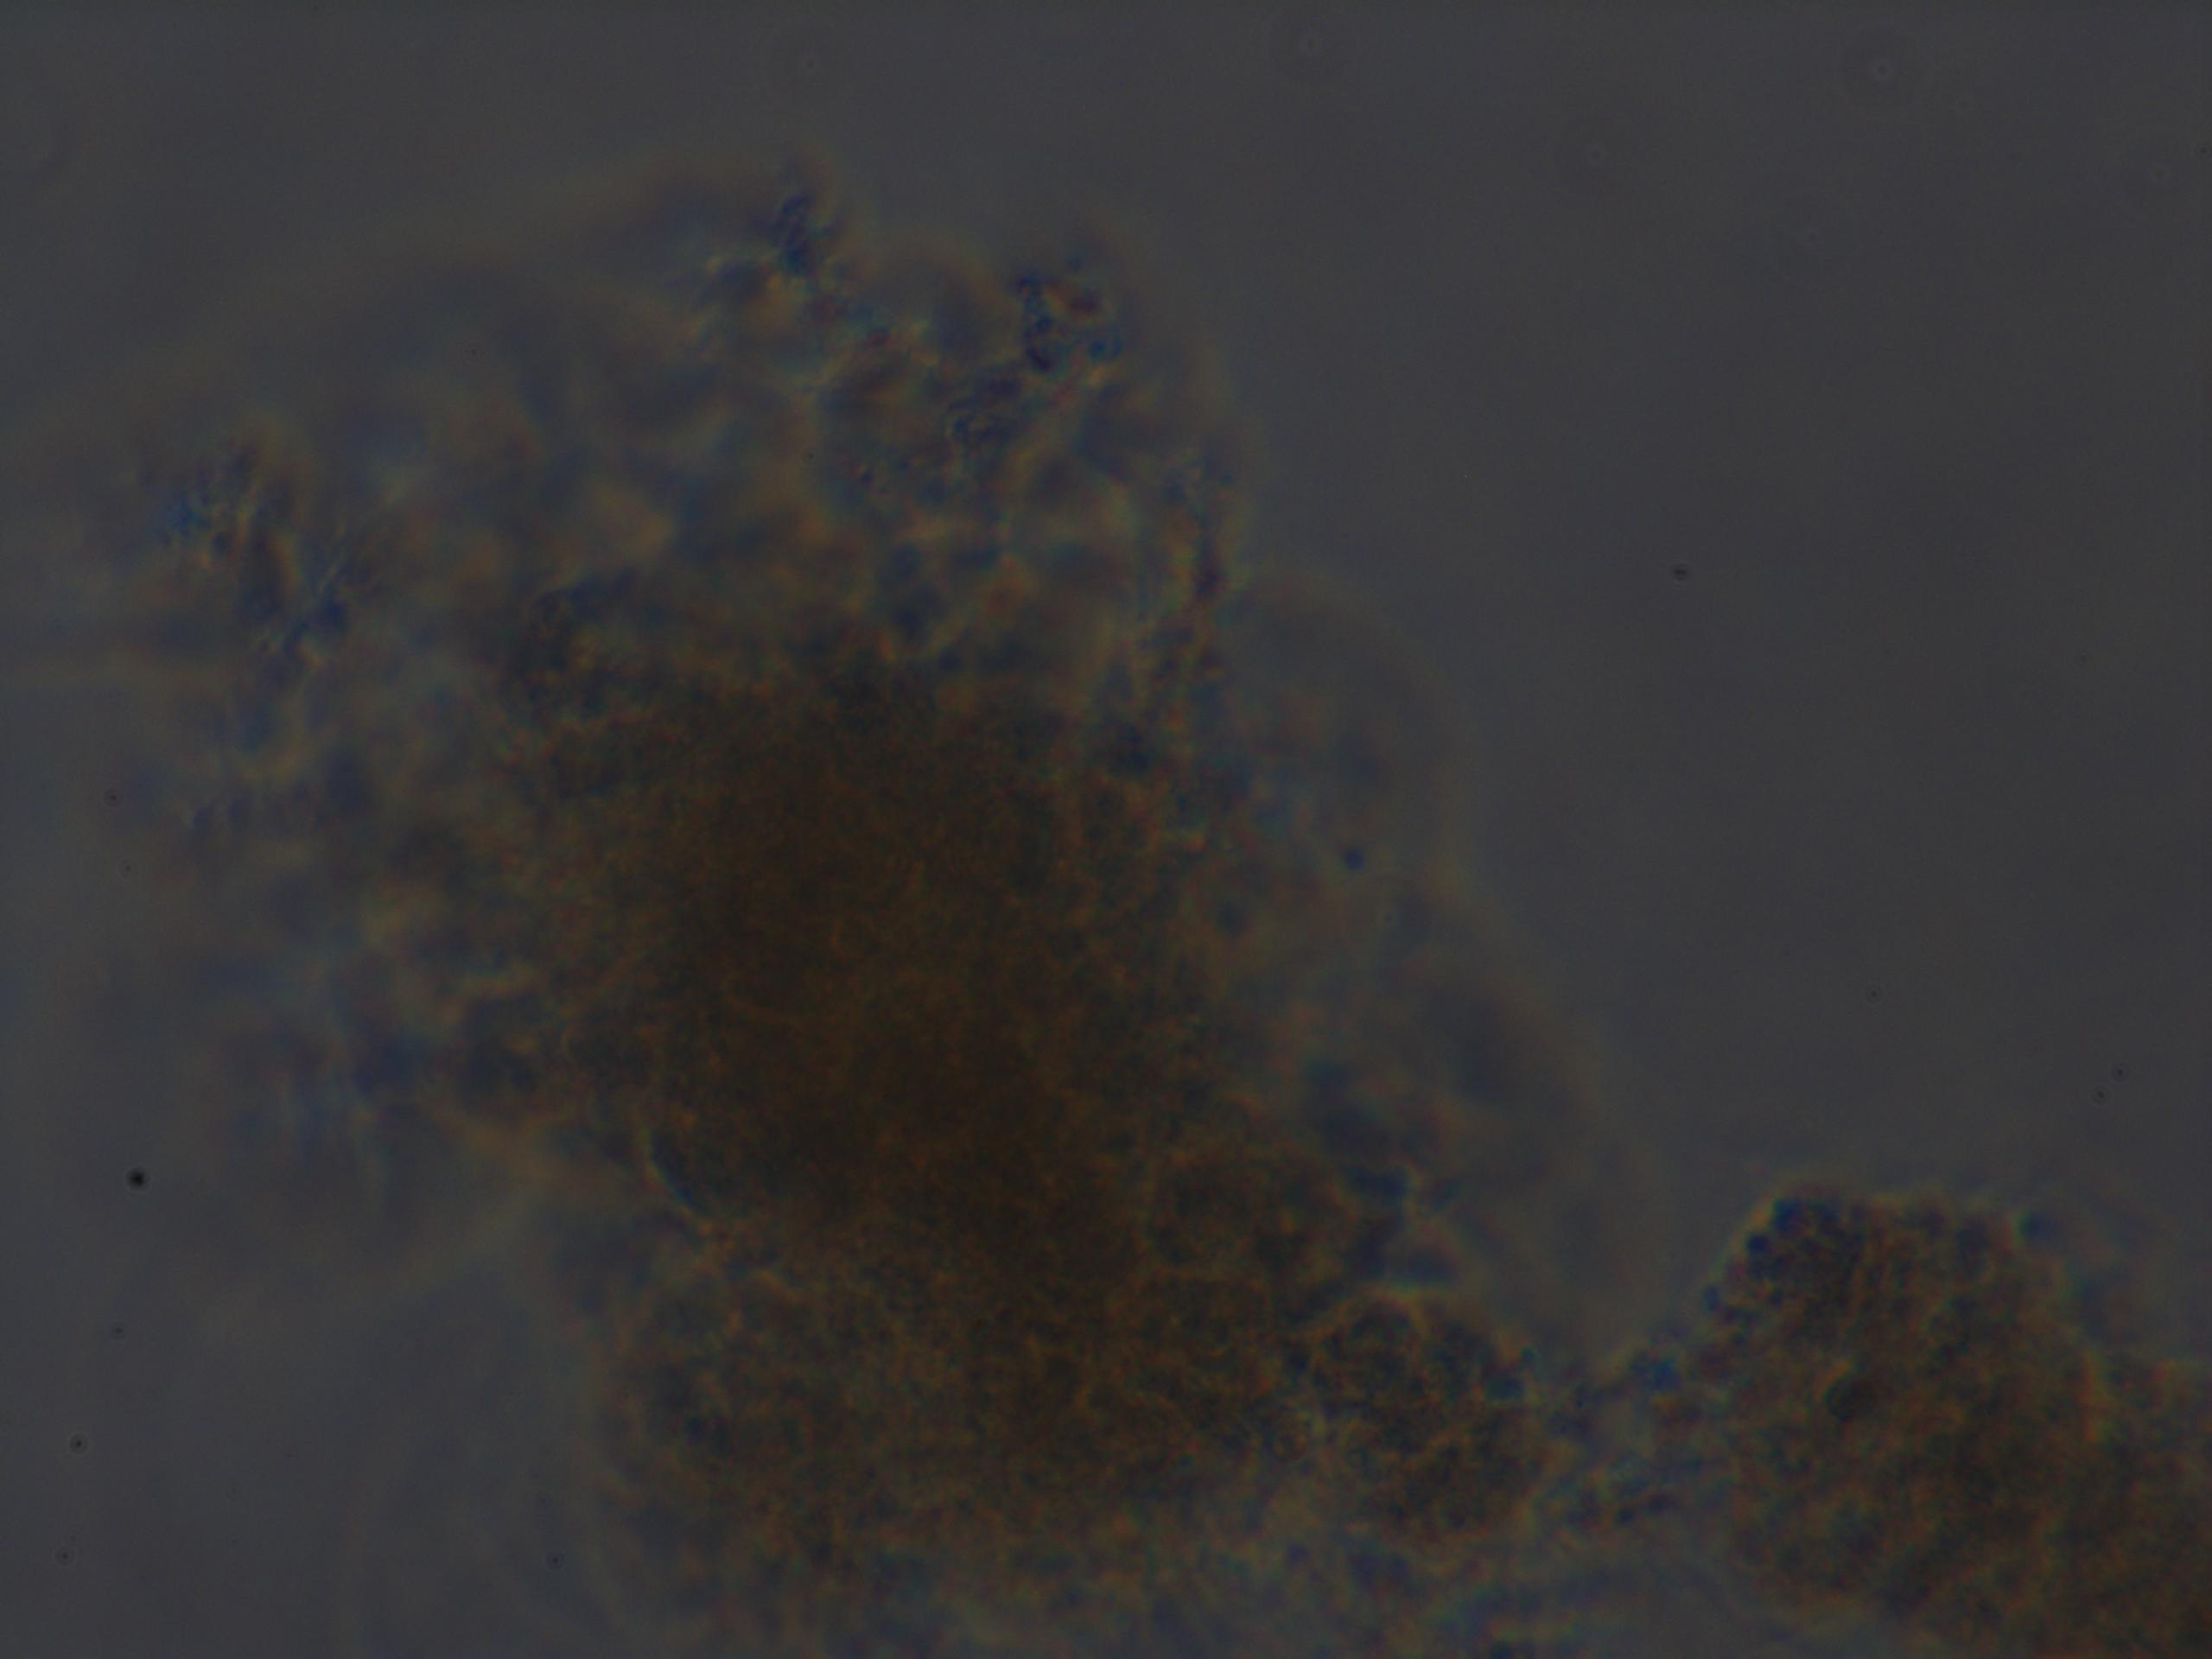spherical_floc: (465, 556, 1536, 1615)
